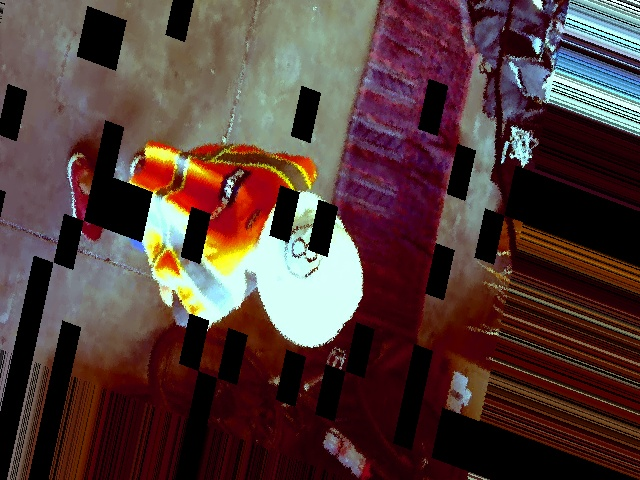eight: (279, 216, 328, 284)
